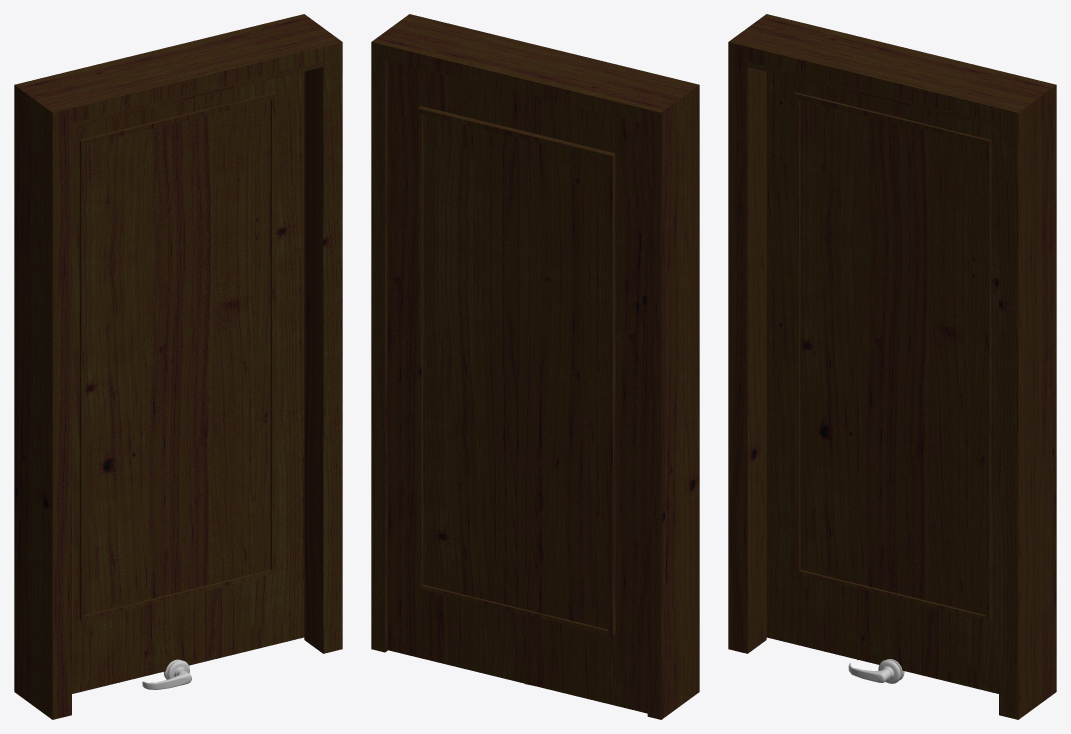
File: door.glb
The picture shows the model from 3 angles, left to right: view 1: azimuth 30°, elevation 25°; view 2: azimuth 150°, elevation 25°; view 3: azimuth 330°, elevation 25°; orthographic projection.
Parts seen in each view (by area): view 1: Door.016_22, DoorFrame_23, Object_147; view 2: Door.016_22, DoorFrame_23; view 3: Door.016_22, DoorFrame_23, Object_147.
Part boxes in pixels (x1,y1,x2,y2): Door.016_22: [72, 71, 304, 693]; DoorFrame_23: [14, 14, 342, 719]; Object_147: [142, 660, 191, 689]; Door.016_22: [387, 60, 647, 713]; DoorFrame_23: [371, 14, 699, 719]; Door.016_22: [766, 71, 998, 693]; DoorFrame_23: [728, 14, 1056, 719]; Object_147: [848, 660, 900, 683].
Size of the model in its own units: 1.05 by 2.14 by 0.248.
2 materials, 1 textured.
